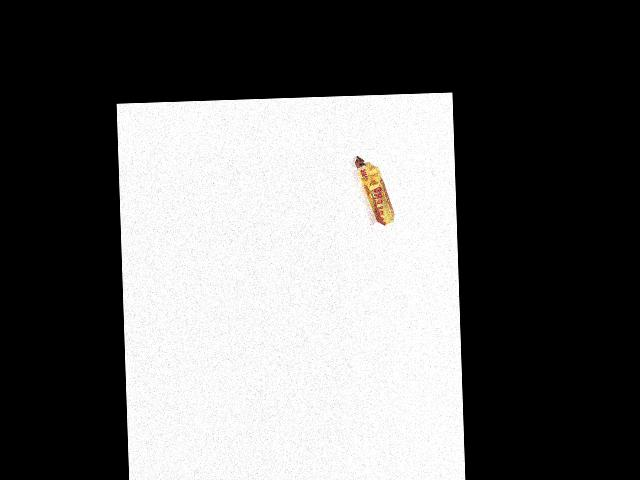chocolate: (351, 154, 396, 226)
